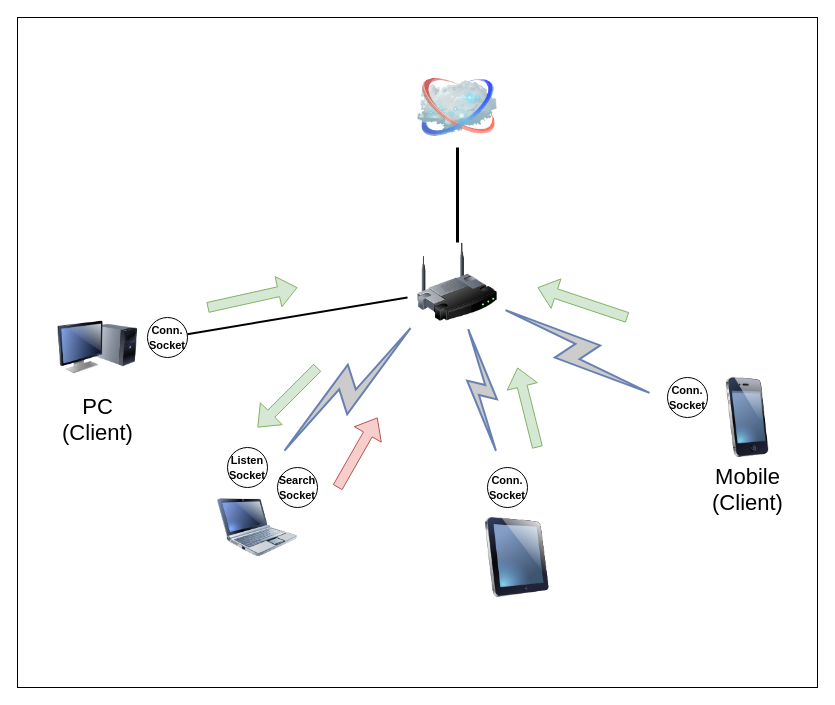
Some shapes in this 835 by 705 pixel diagram are drawn without their labels. The shapes that lost their labels are listed below. From the top down, each one's box as (x1, y1, x2, y2) in pixels, then its label:
(417, 67, 497, 147): Internet
(217, 487, 297, 567): Laptop (Server)
(477, 517, 557, 597): Tablet (Client)
